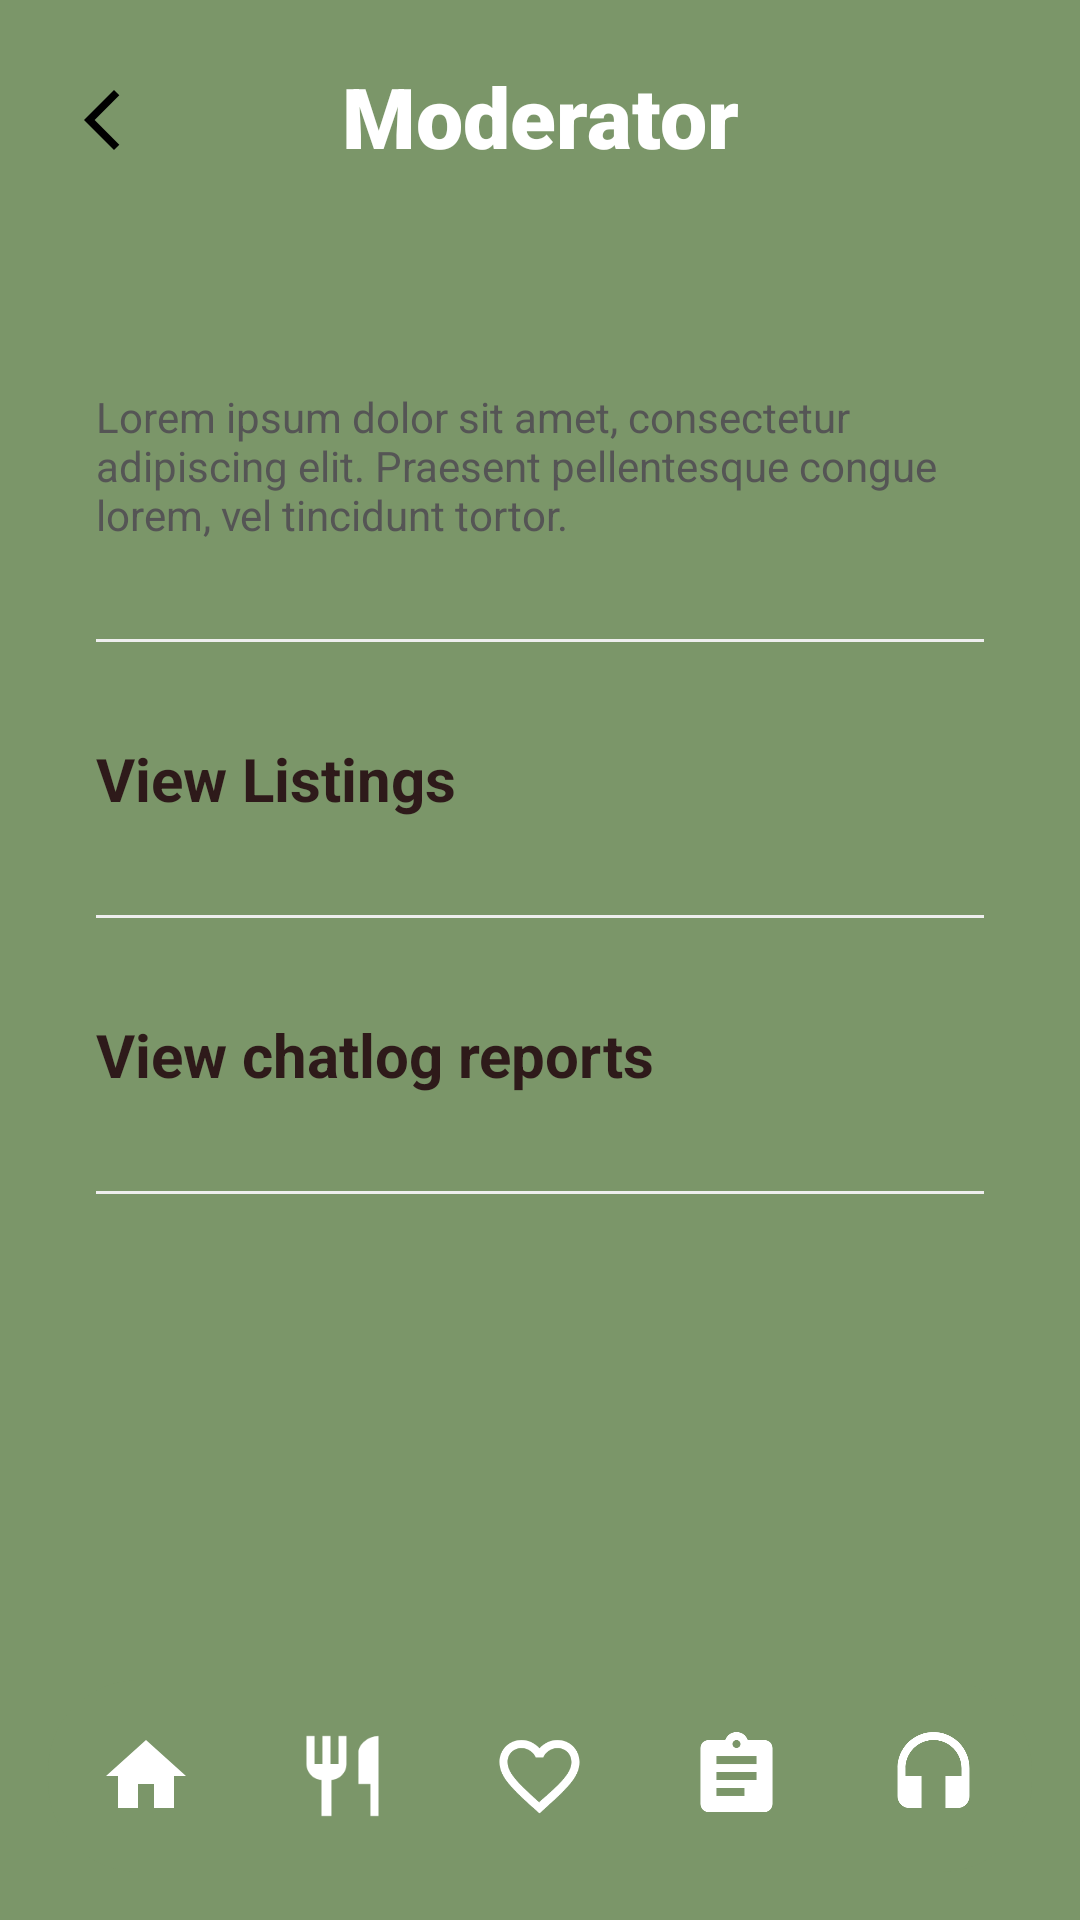

Point at icon controls on the screen. Image size 1080 x 1920, points as (x,y).
Back: (101,120)
Heart: (539,1776)
Home: (146,1774)
List: (736,1772)
Plate: (342,1776)
Support: (933,1770)
